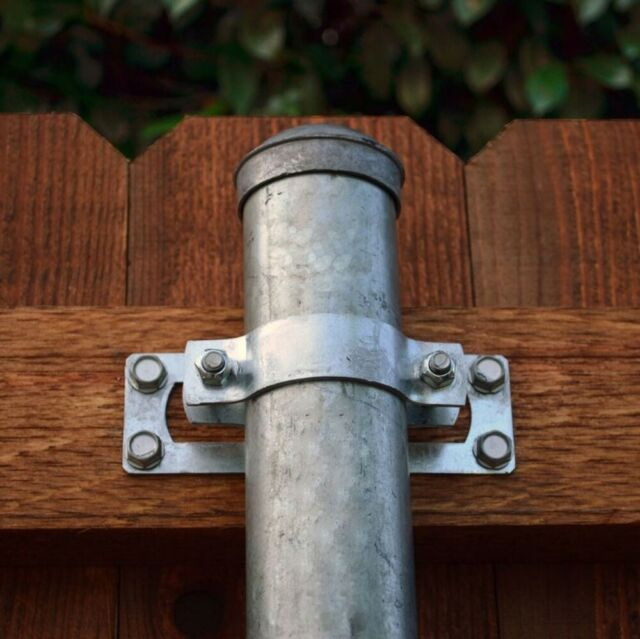bolt_a: (124, 351, 171, 394), (465, 350, 508, 395), (473, 425, 515, 468), (123, 429, 166, 469)
bolt_b: (192, 342, 235, 390), (416, 347, 458, 392)
